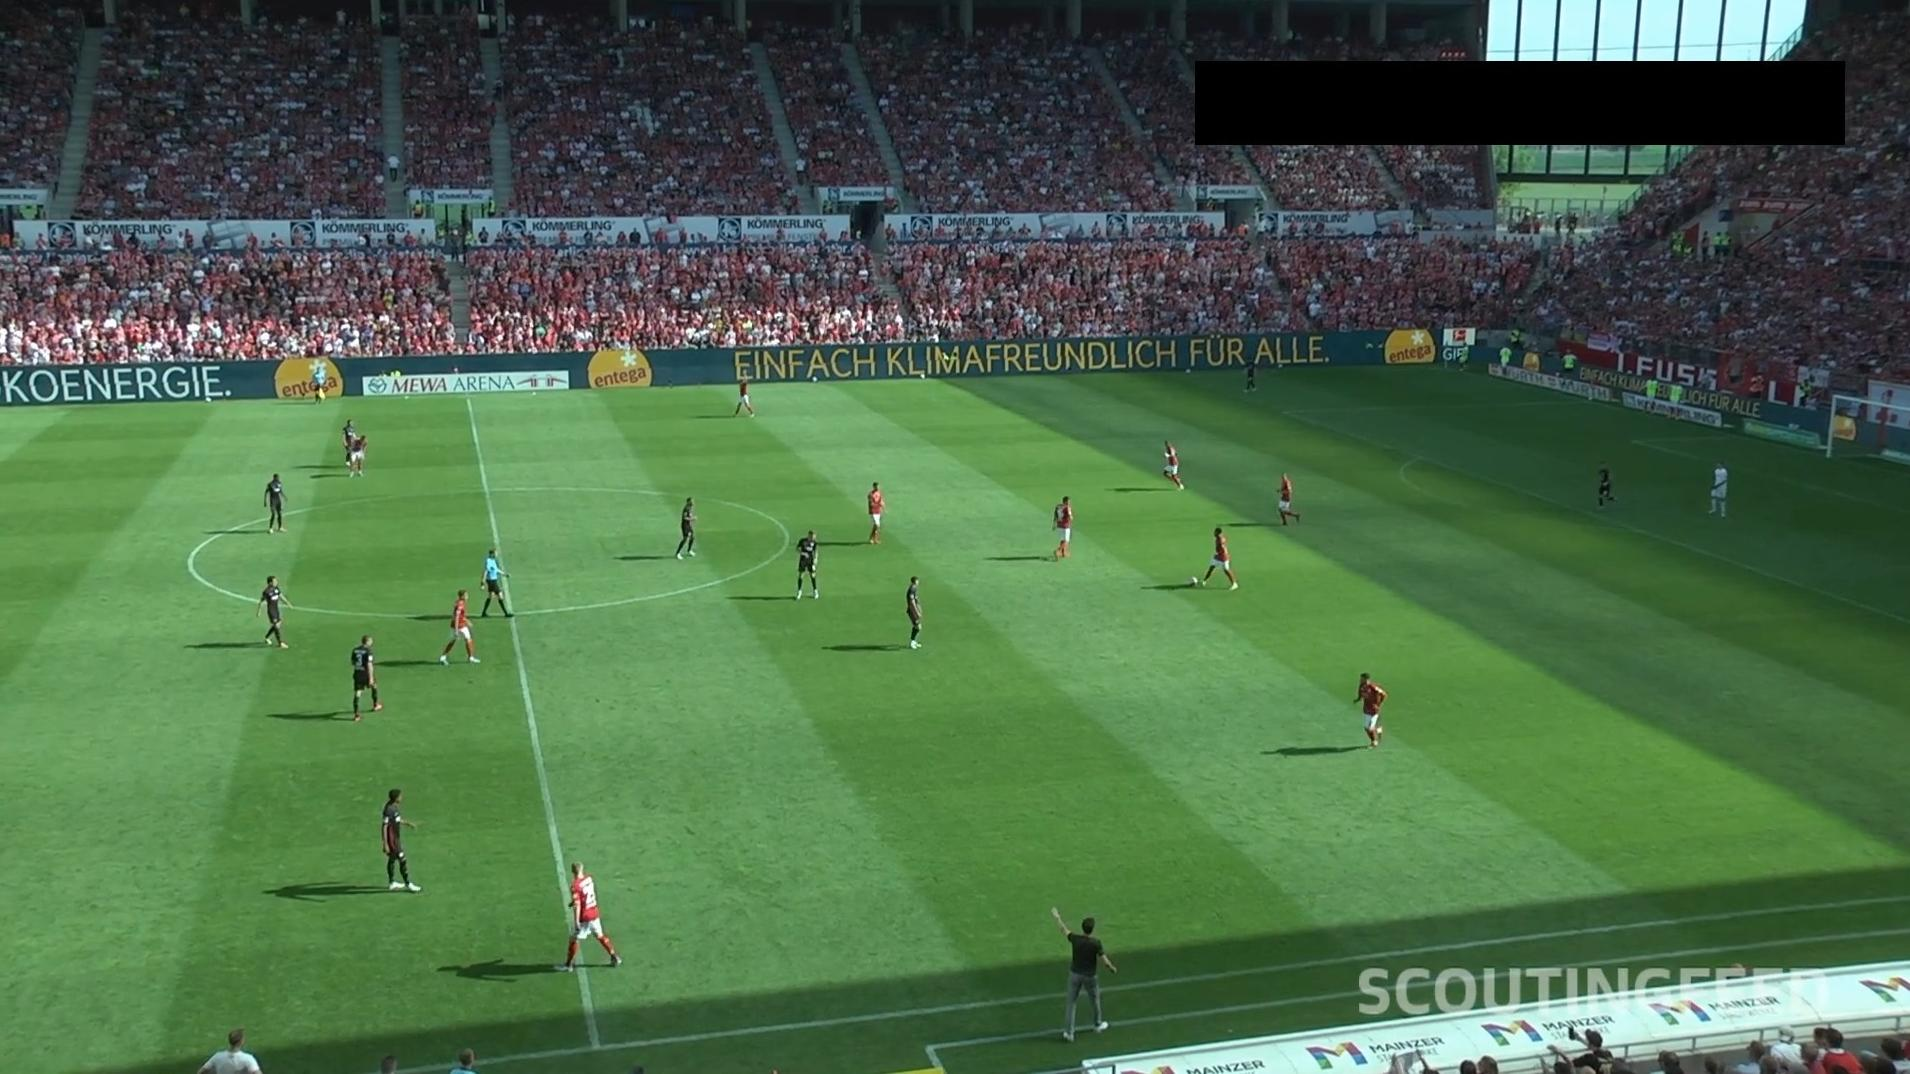ball: (1189, 576, 1200, 587)
